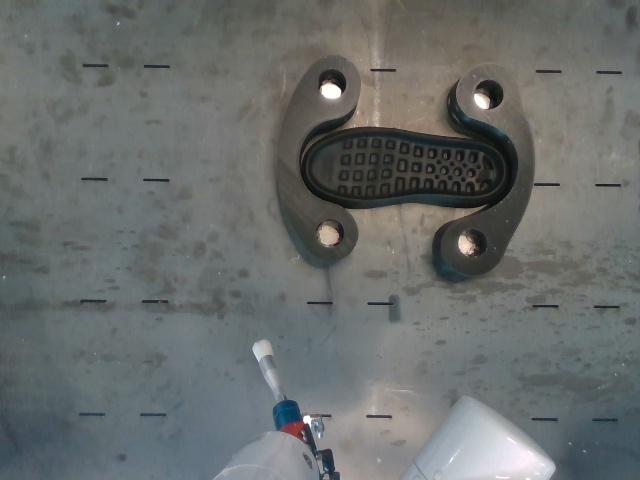shoes: (307, 130, 505, 200)
